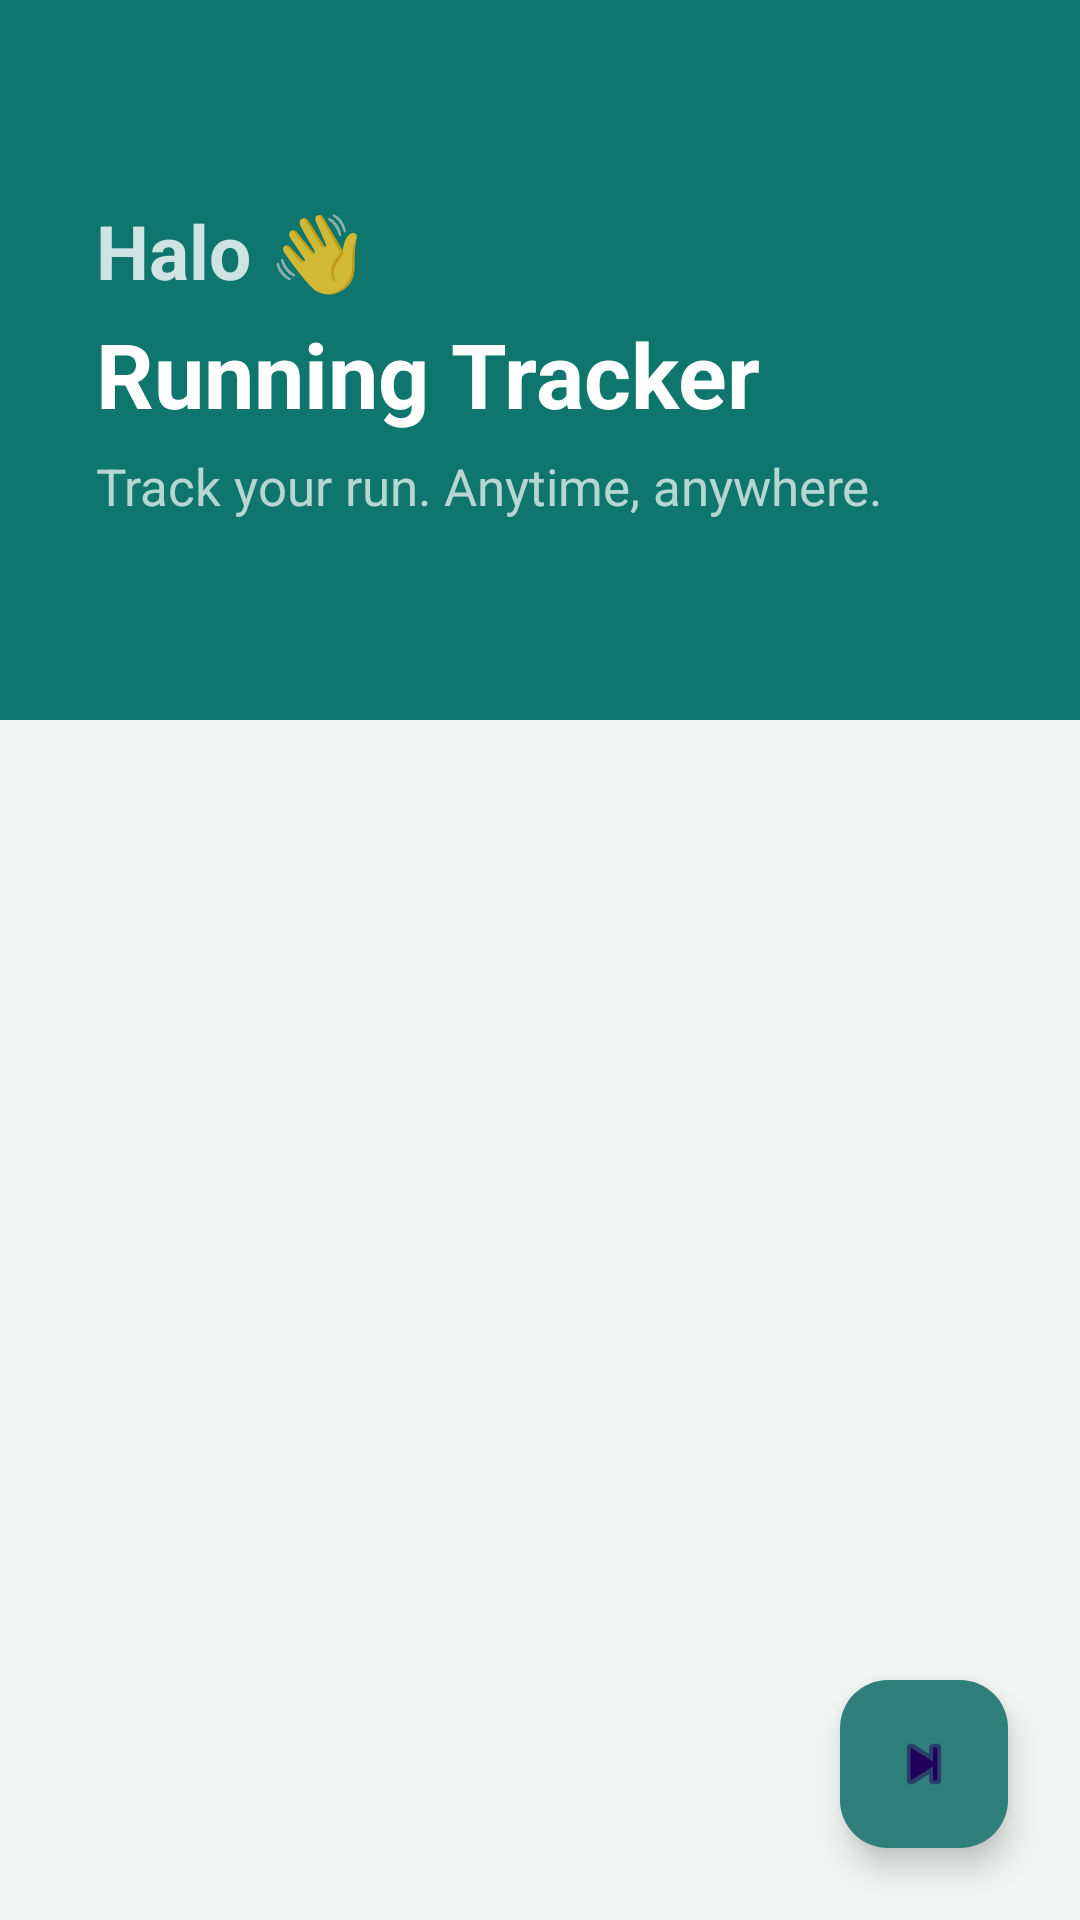

Named icons in this screenshot (1080w x 1920h) and their bounding boxes, (x1, y1, x2, y2):
Next: (840, 1680, 1008, 1848)
